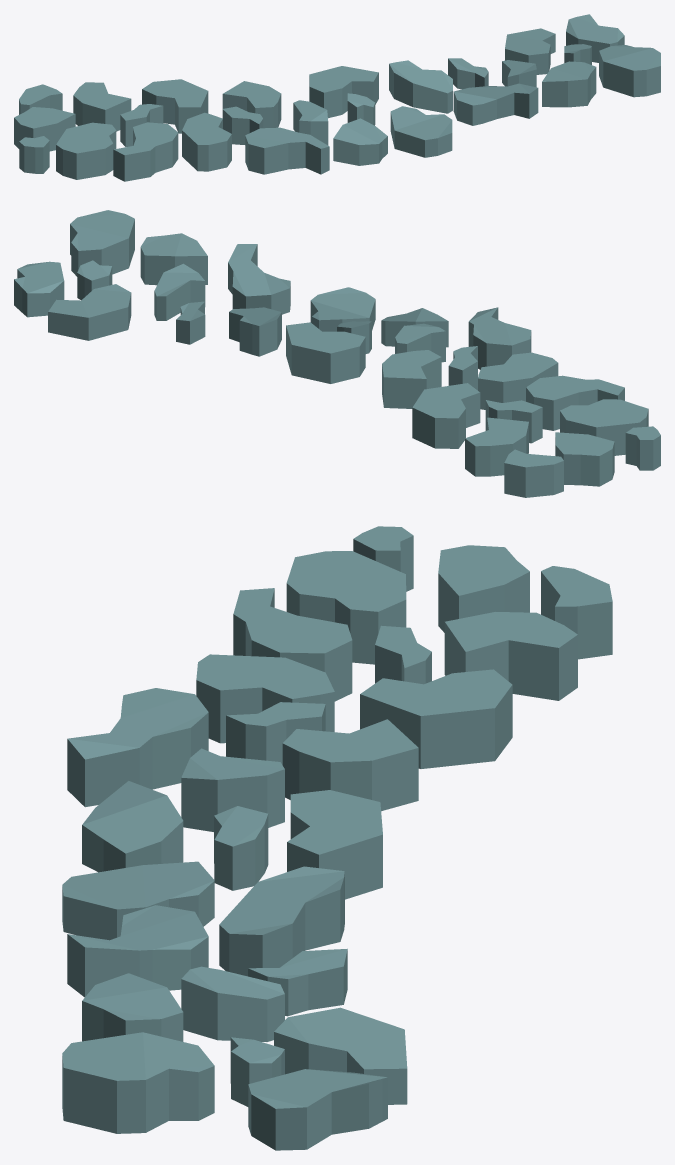
The model's file is fbTrack1.fbx.
The picture shows the model from 3 angles, top to bottom: view 1: azimuth 30°, elevation 25°; view 2: azimuth 150°, elevation 25°; view 3: azimuth 270°, elevation 25°; orthographic projection. The views are drawn at different scales.
Visible parts, largest first — view 1: pCube535; view 2: pCube535; view 3: pCube535.
Part boxes in pixels (left/top/right/bottom): pCube535: left=14, top=14, right=660, bottom=181; pCube535: left=14, top=210, right=660, bottom=497; pCube535: left=62, top=526, right=612, bottom=1150.
Bounding box in the file's own units: 3.55 × 0.2388 × 1.47.
